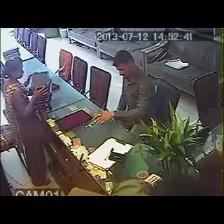person: (3, 57, 50, 186), (94, 50, 154, 130), (149, 175, 210, 195)
